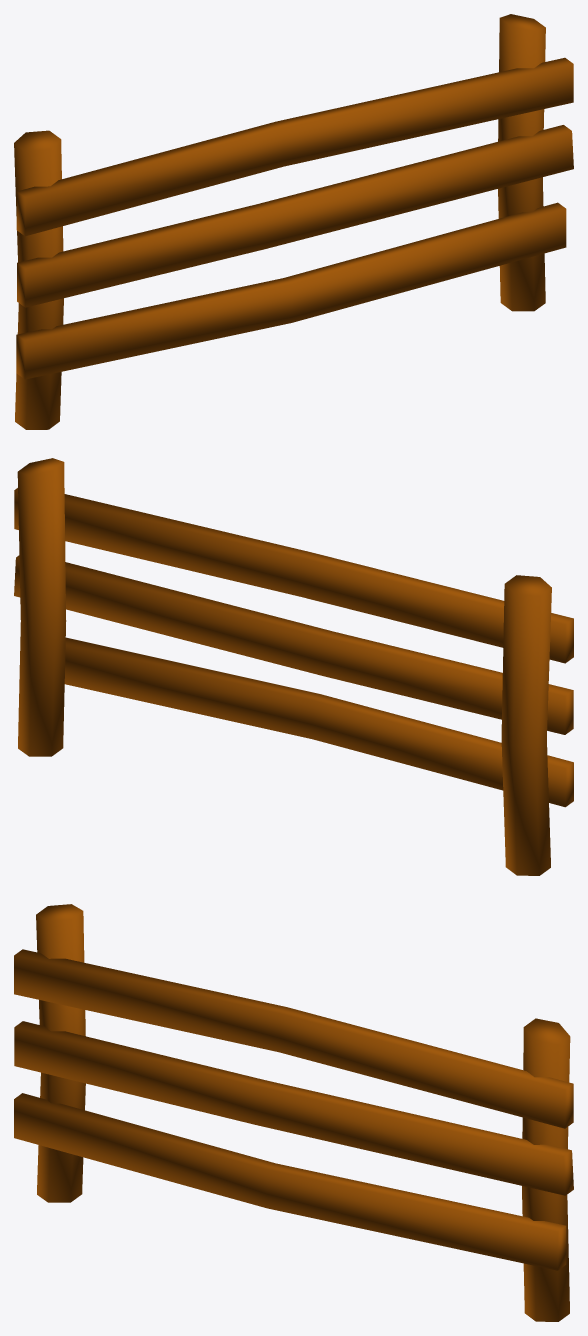
The model's file is Fence_Wood.fbx.
The picture shows the model from 3 angles, top to bottom: view 1: azimuth 30°, elevation 25°; view 2: azimuth 150°, elevation 25°; view 3: azimuth 330°, elevation 25°; orthographic projection.
Parts seen in each view (by area): view 1: fence; view 2: fence; view 3: fence.
Boxes of the visible parts, bbox=[...] form: fence: bbox=[14, 14, 573, 429]; fence: bbox=[14, 458, 573, 875]; fence: bbox=[14, 904, 573, 1321].
Size of the model in its own units: 226 by 112 by 25.57.
Materials: 1 (1 with a texture image).
